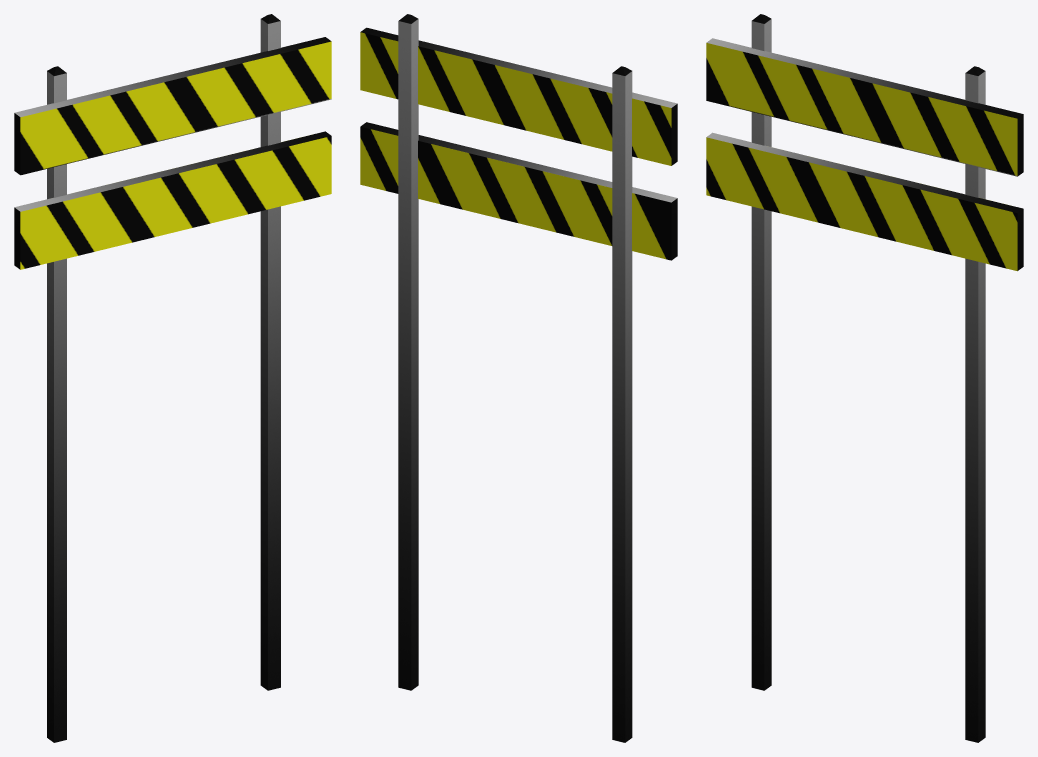
File: Obstacle_ustyolkapali 1.fbx
3 renders of one model, left to right at view 1: azimuth 30°, elevation 25°; view 2: azimuth 150°, elevation 25°; view 3: azimuth 330°, elevation 25°, orthographic.
Visible parts, largest first — view 1: Cube.001; view 2: Cube.001; view 3: Cube.001.
Boxes of the visible parts, x1=… form: Cube.001: x1=14, y1=14, x2=331, y2=742; Cube.001: x1=360, y1=14, x2=677, y2=742; Cube.001: x1=706, y1=14, x2=1023, y2=742.
Size of the model in its own units: 760 by 1567 by 55.19.
1 material, 1 textured.
